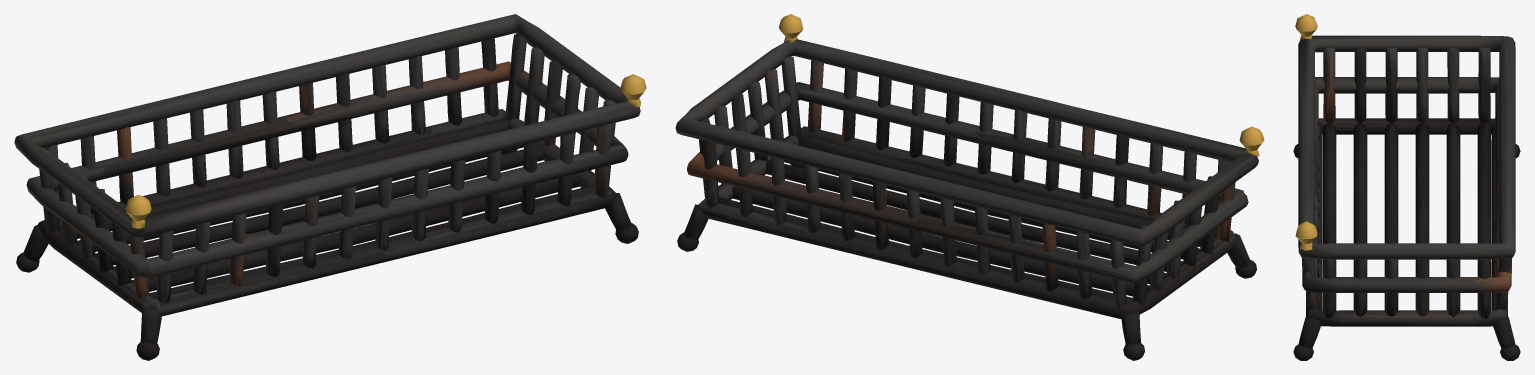
File: ember_grate_lod1.glb
3 views of the same model, side by side, from view 1: azimuth 30°, elevation 25°; view 2: azimuth 150°, elevation 25°; view 3: azimuth 270°, elevation 25° (orthographic). The views are drawn at different scales.
Visible parts, largest first — view 1: ember_grate.001; view 2: ember_grate.001; view 3: ember_grate.001.
Part boxes in pixels (left/top/right/bottom): ember_grate.001: left=14, top=14, right=646, bottom=360; ember_grate.001: left=675, top=14, right=1264, bottom=360; ember_grate.001: left=1293, top=14, right=1520, bottom=360.
Bounding box in the file's own units: 49.69 × 15.19 × 22.
